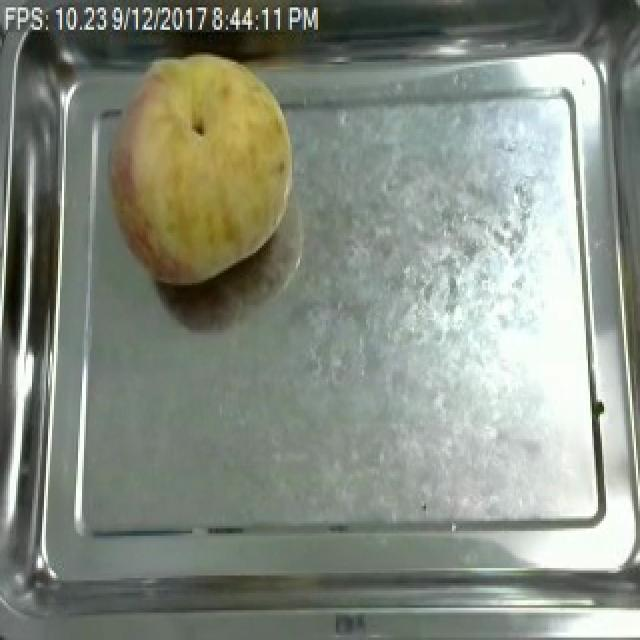Fruit: (92, 42, 306, 295)
